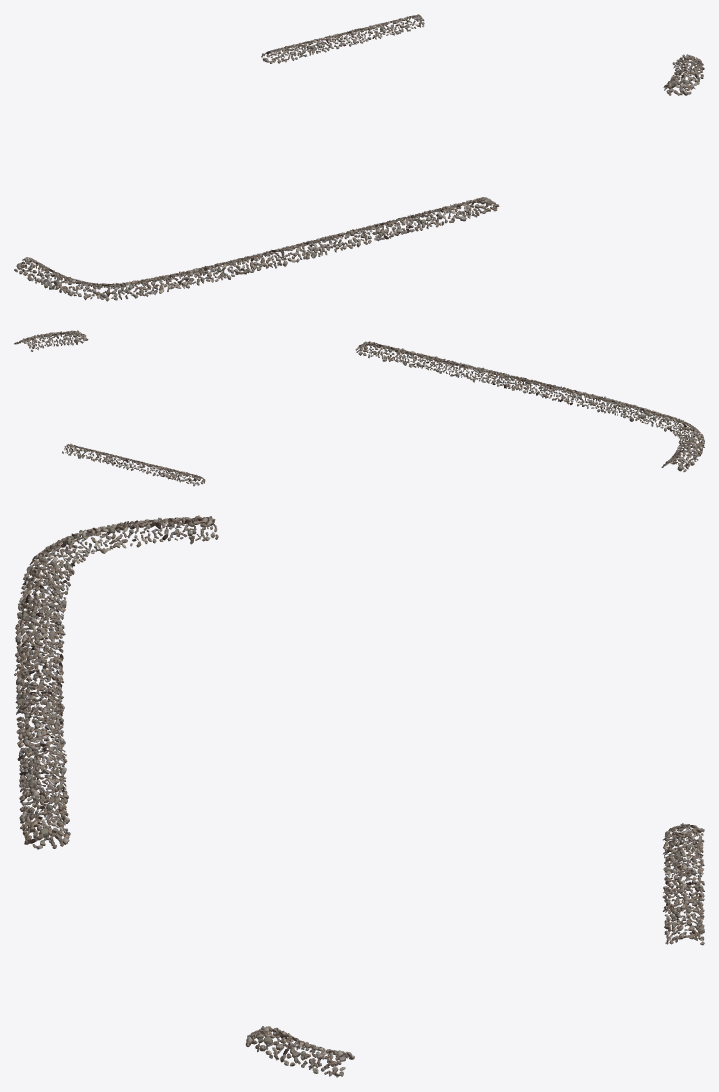
The model's file is port_rocks_near.glb.
The picture shows the model from 3 angles, top to bottom: view 1: azimuth 30°, elevation 25°; view 2: azimuth 150°, elevation 25°; view 3: azimuth 270°, elevation 25°; orthographic projection. The views are drawn at different scales.
Parts seen in each view (by area): view 1: rk_west_05_A, rk_west_07_A, rk_west_09_A, rk_west_06_A, rk_bankE_00_A, rk_west_08_A, rk_west_04_A, rk_east_03_A, rk_bankE_01_A, rk_west_10_A; view 2: rk_west_09_A, rk_west_06_A, rk_west_07_A, rk_west_08_A, rk_west_04_A, rk_west_05_A, rk_east_03_A, rk_bankE_00_A, rk_bankE_01_A, rk_west_10_A; view 3: rk_west_06_A, rk_west_09_A, rk_west_08_A, rk_west_07_A, rk_west_04_A, rk_west_05_A, rk_east_03_A, rk_bankE_00_A, rk_bankE_01_A, rk_west_10_A.
Part boxes in pixels (<box>): rk_west_05_A: <box>78,276,169,301</box>; rk_west_07_A: <box>235,241,316,274</box>; rk_west_09_A: <box>375,204,461,238</box>; rk_west_06_A: <box>159,259,244,289</box>; rk_bankE_00_A: <box>261,32,354,63</box>; rk_west_08_A: <box>304,223,388,256</box>; rk_west_04_A: <box>14,257,85,296</box>; rk_east_03_A: <box>663,54,704,95</box>; rk_bankE_01_A: <box>344,14,424,44</box>; rk_west_10_A: <box>451,197,499,221</box>; rk_west_09_A: <box>388,348,460,376</box>; rk_west_06_A: <box>580,393,651,421</box>; rk_west_07_A: <box>517,378,588,406</box>; rk_west_08_A: <box>453,362,523,390</box>; rk_west_04_A: <box>661,433,704,472</box>; rk_west_05_A: <box>641,410,704,440</box>; rk_east_03_A: <box>14,330,88,351</box>; rk_bankE_00_A: <box>126,459,205,486</box>; rk_bankE_01_A: <box>62,443,132,468</box>; rk_west_10_A: <box>355,341,397,361</box>; rk_west_06_A: <box>15,581,66,648</box>; rk_west_09_A: <box>19,747,68,816</box>; rk_west_08_A: <box>16,693,66,760</box>; rk_west_07_A: <box>14,636,63,705</box>; rk_west_04_A: <box>80,515,218,553</box>; rk_west_05_A: <box>20,529,101,594</box>; rk_east_03_A: <box>245,1026,354,1077</box>; rk_bankE_00_A: <box>663,823,704,891</box>; rk_bankE_01_A: <box>662,881,704,945</box>; rk_west_10_A: <box>19,803,70,849</box>.
Bounding box in the file's own units: 400 × 6.34 × 210.
Materials: 1 (1 with a texture image).
